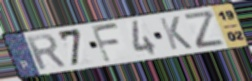4: (130, 19, 158, 57)
7: (57, 27, 84, 68)
F: (89, 22, 123, 64)
K: (157, 15, 194, 52)
R: (23, 33, 69, 72)
Z: (182, 9, 227, 50)
